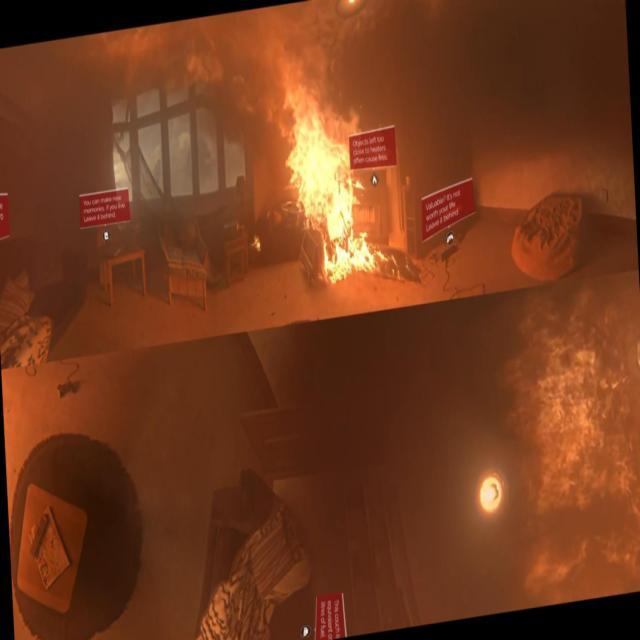fire: (265, 33, 351, 238)
